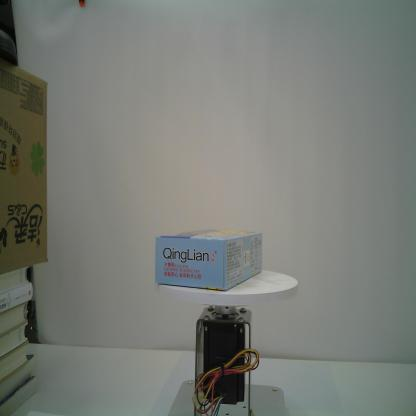Dessert: (152, 227, 265, 293)
